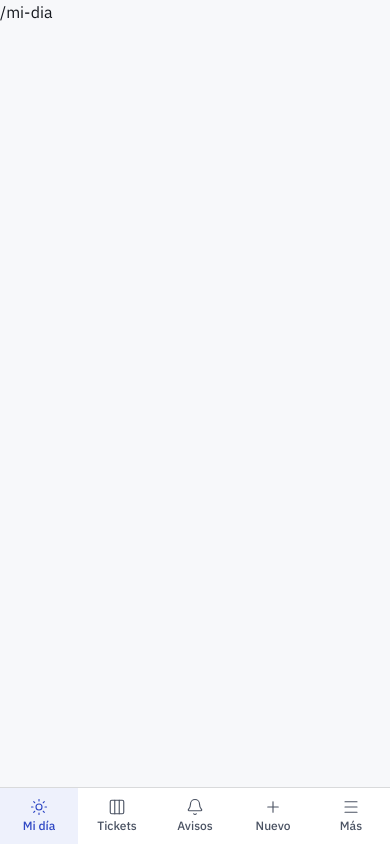
Test: (b) al pulsar Más aparece el diálogo "Menú" y aria-expanded="true"
This screenshot has width=390, height=844.
Click the button "Más": coordinates (351, 816) x1=312 y1=788 x2=389 y2=843
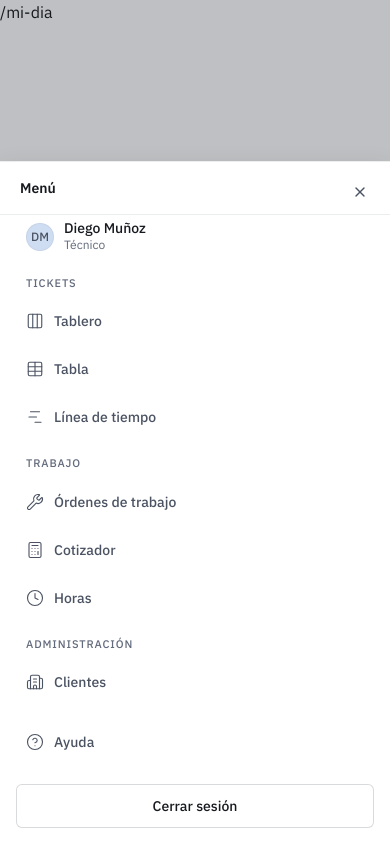
Expected: the dialog "Menú" is shown
Expected: the button "Más" is expanded, x1=312 y1=788 x2=389 y2=843
